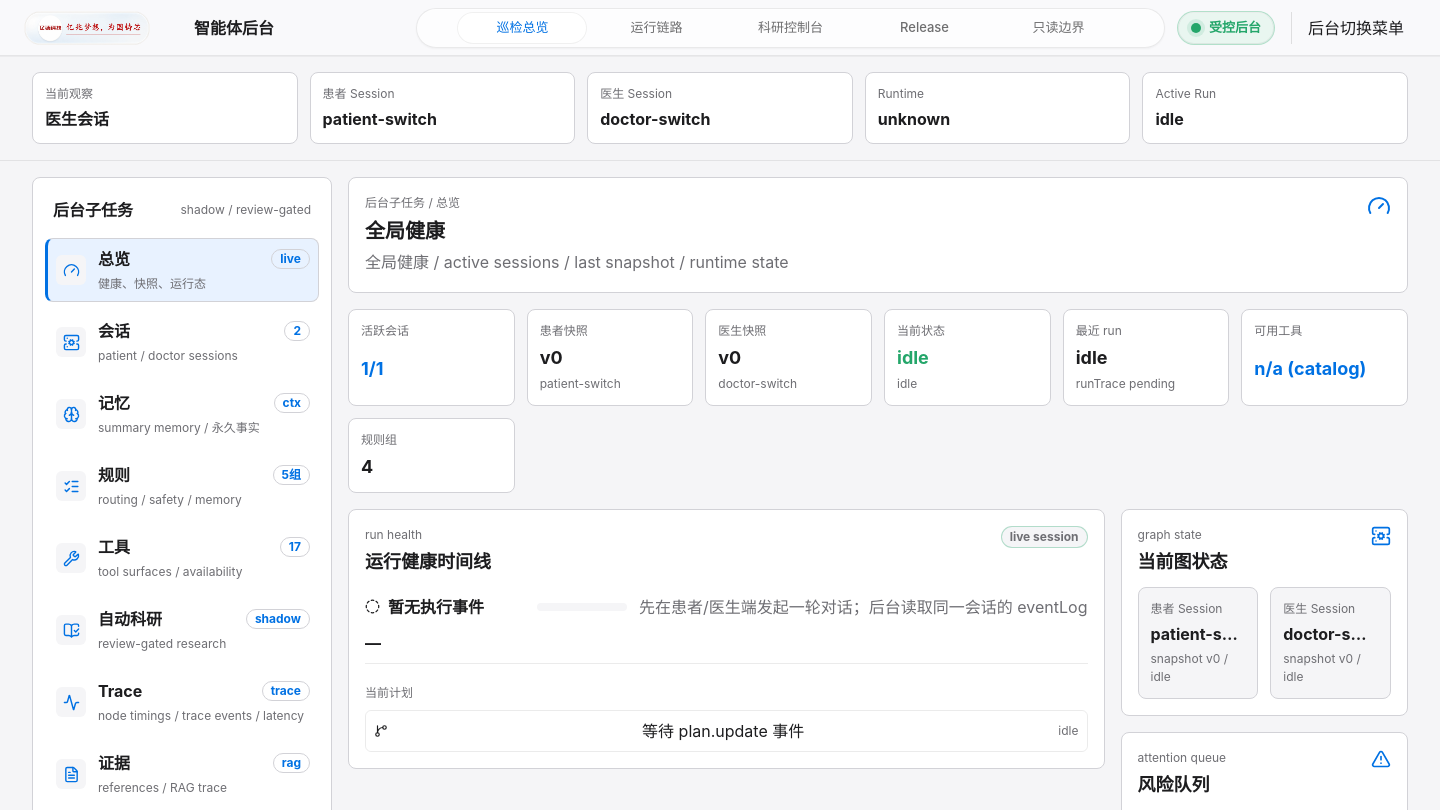
Test: AgentAdminView › shows only the selected evidence page
The width and height of the screenshot is (1440, 810).
Click the button "证据 rag references / RAG trace" at coordinates (114, 763), box [45,742,319,806]
(page scrolled)
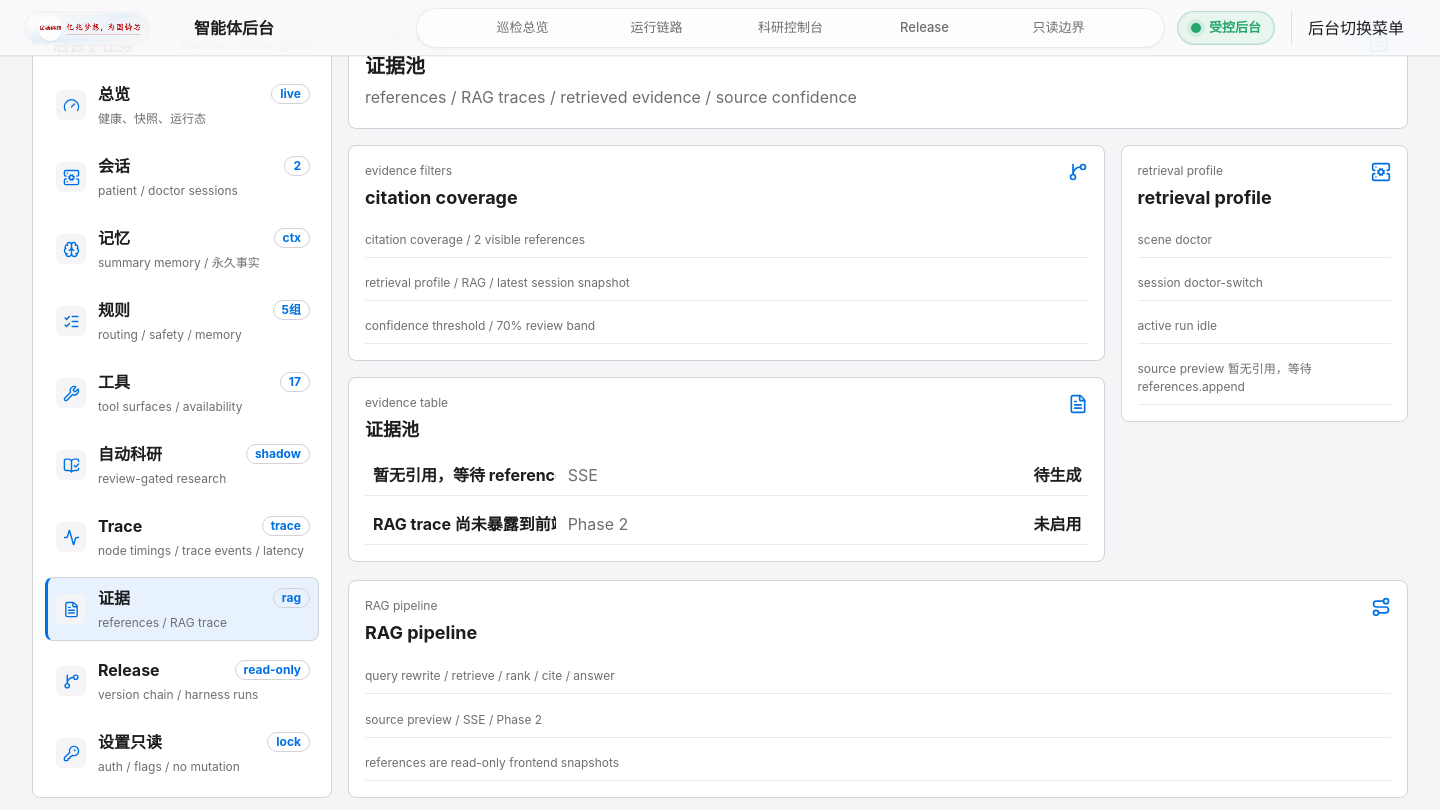
Result: the element with test id "agent-admin-task-page" shows "RAG pipeline" at [365,598,437,613]
